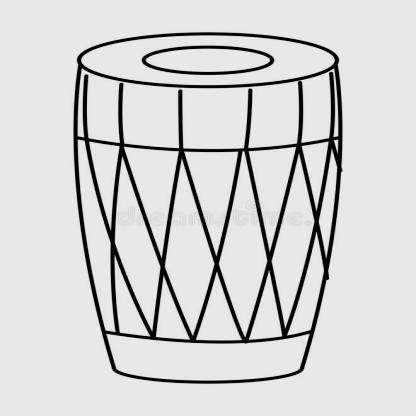Mridangam: (62, 22, 358, 397)
